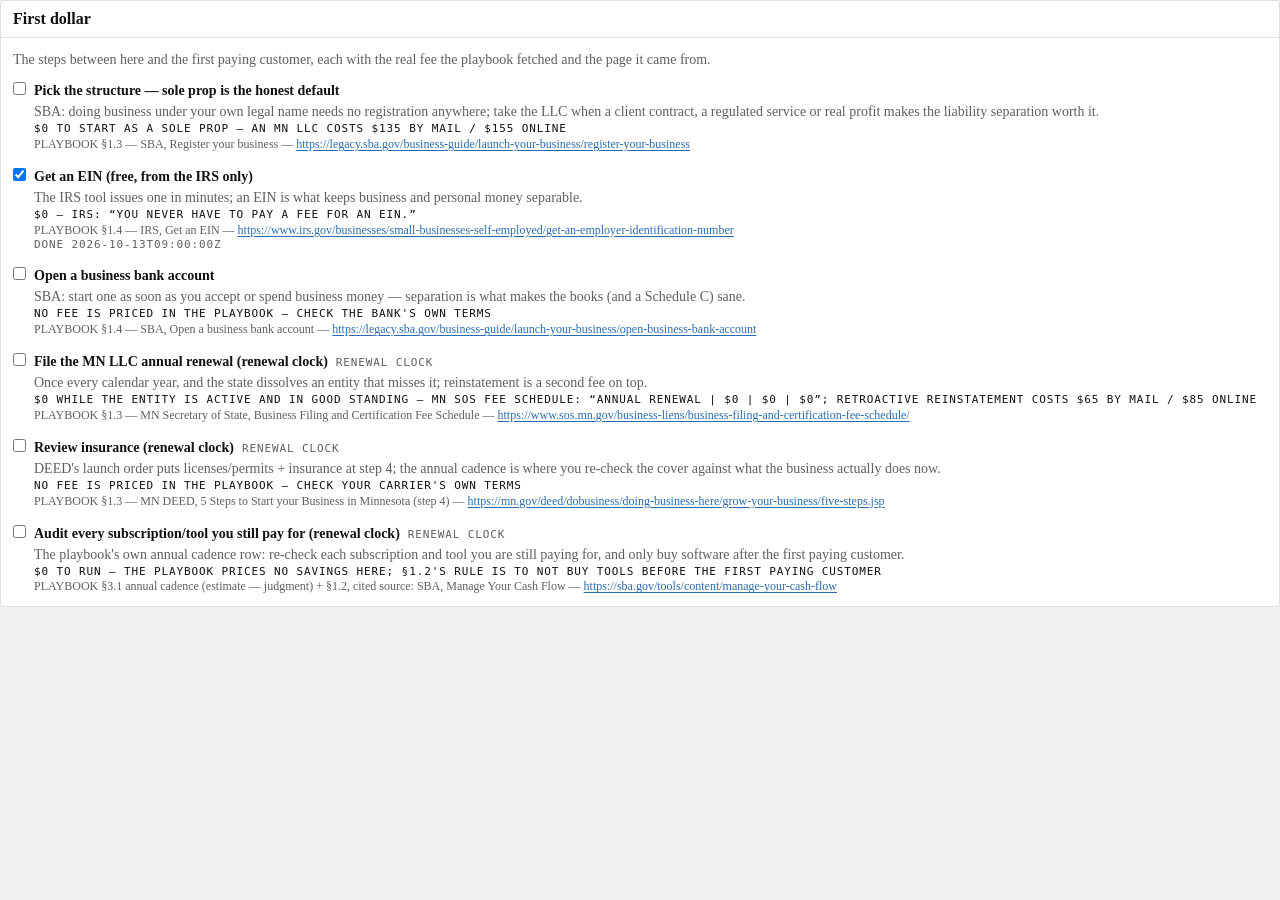
it: FirstDollarChecklist (plan §9 B5 + v1.1 renewal clocks) › keeps the stored ticks on a re-read and names a failed save (never a false tick)
The width and height of the screenshot is (1280, 900).
Expected: the checkbox labelled "Get an EIN (free, from the IRS only)" is checked, top-left (13, 168), bottom-right (26, 181)
Click the checkbox labelled "Open a business bank account": (20, 274) top-left (13, 267), bottom-right (26, 280)
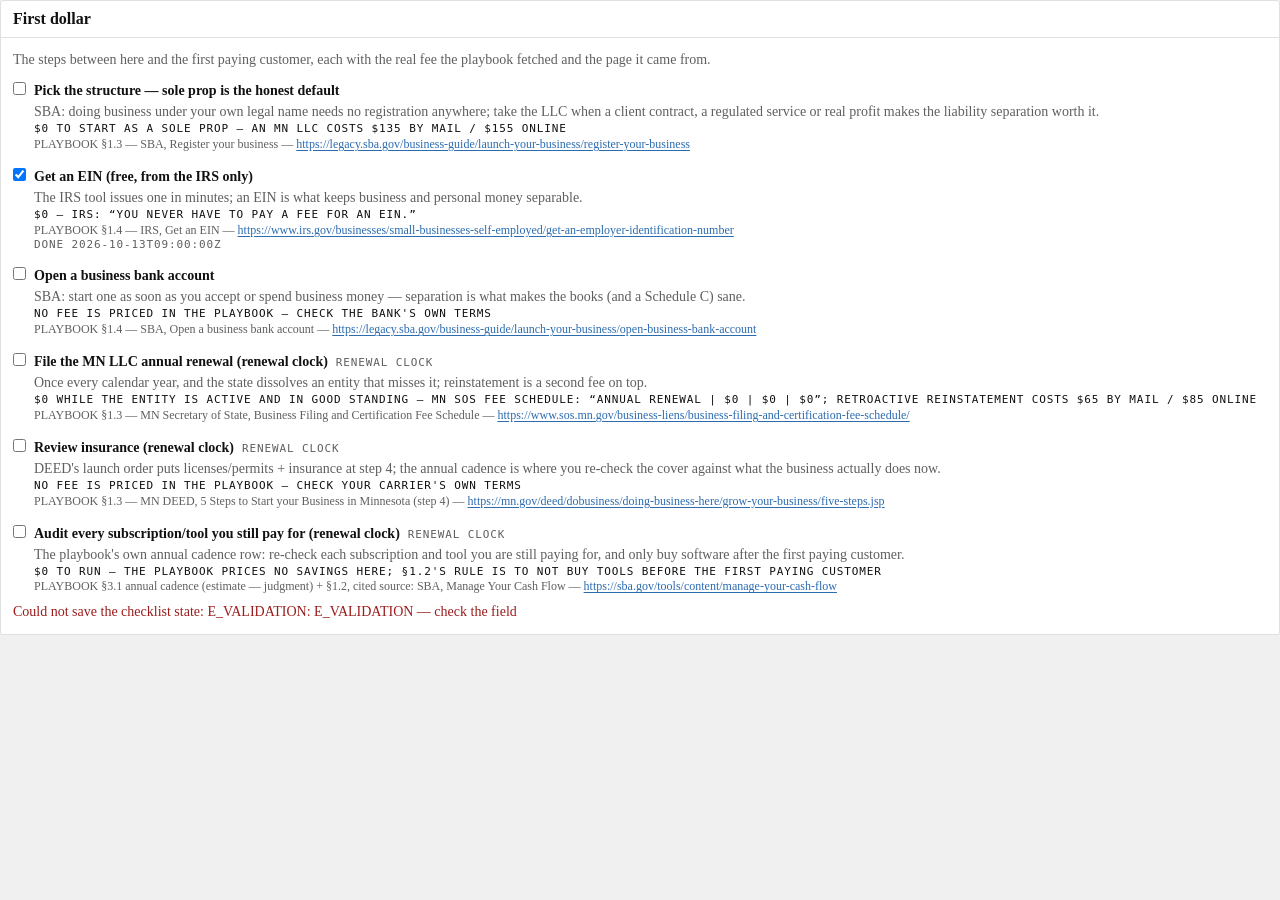
Expected: the checkbox labelled "Get an EIN (free, from the IRS only)" is checked, top-left (13, 168), bottom-right (26, 181)
Expected: the message with test id "checklist-save-error" shows "E_VALIDATION", top-left (207, 604), bottom-right (517, 619)
